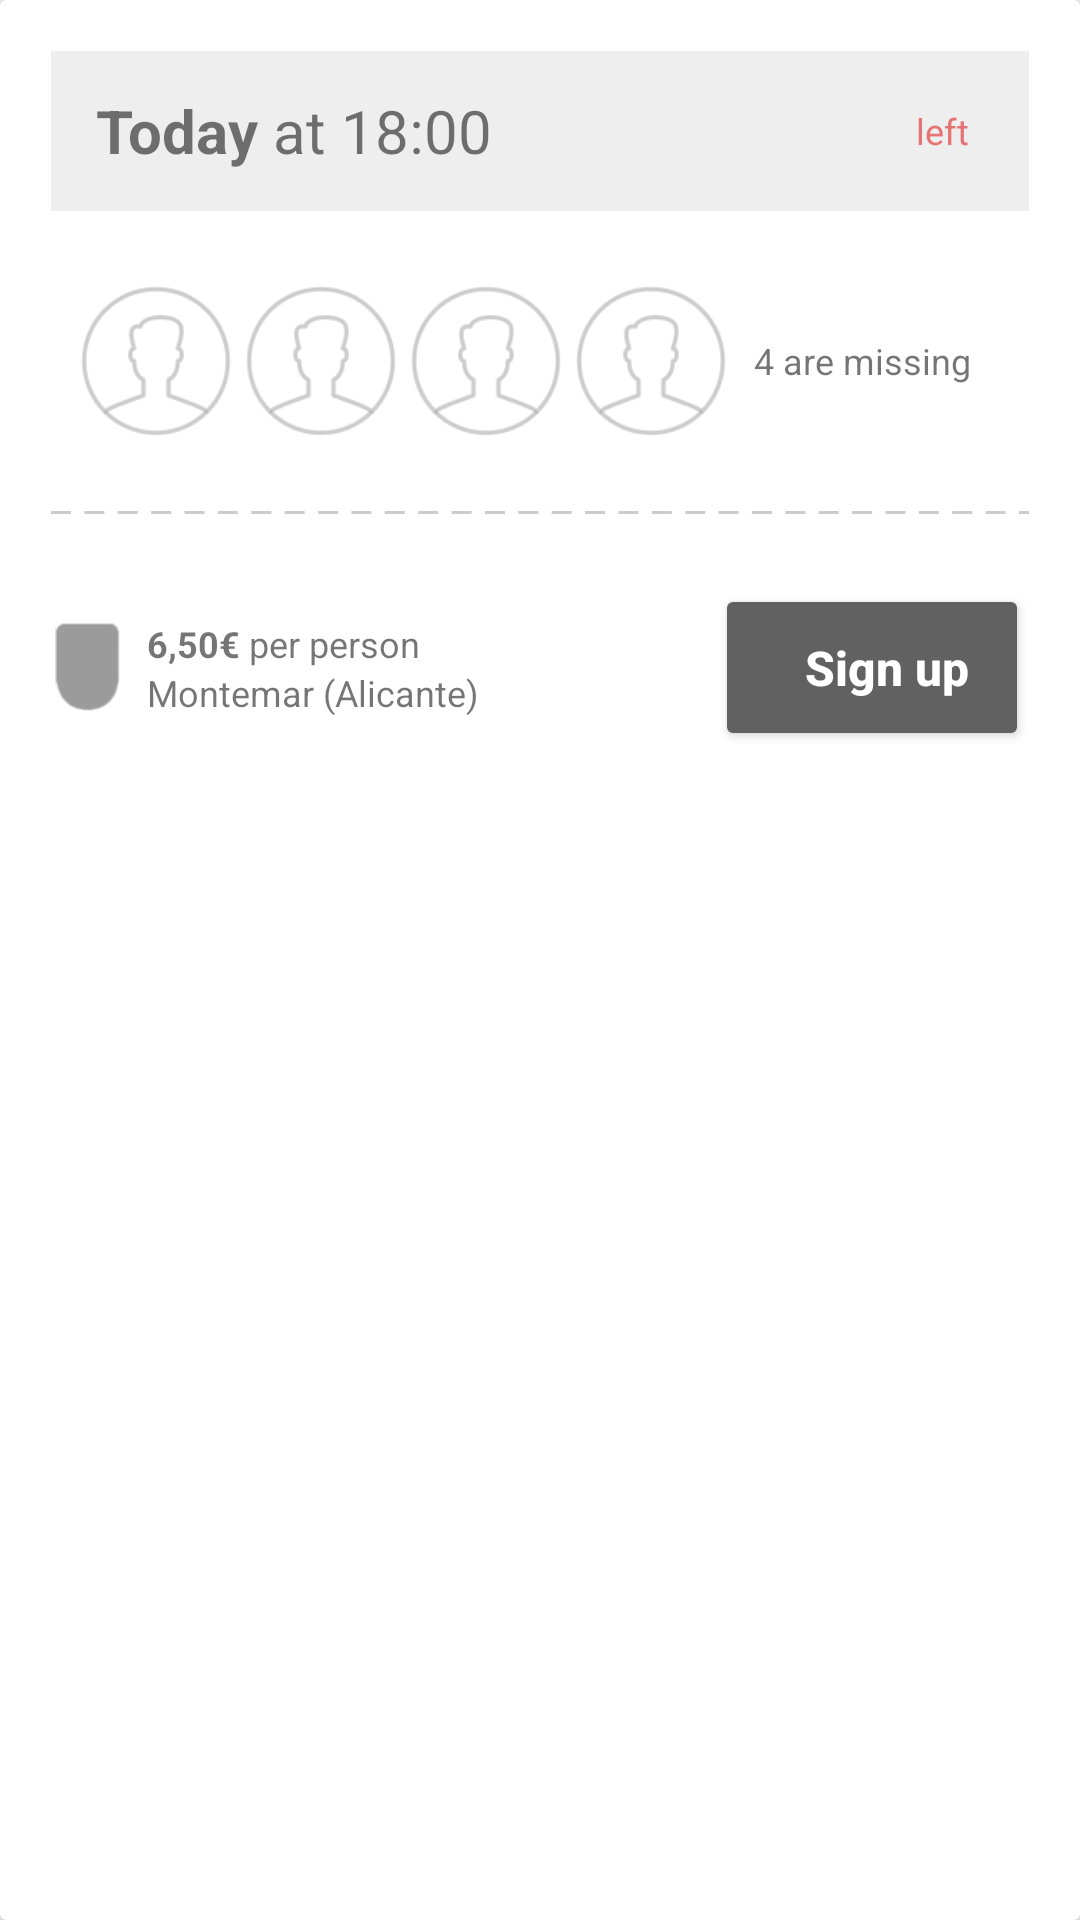

Named icons in this screenshot (1080×1920) and their centers, (x=x, y=y):
Player profile picture: (x=156, y=361), (x=321, y=361), (x=486, y=361), (x=651, y=361)
